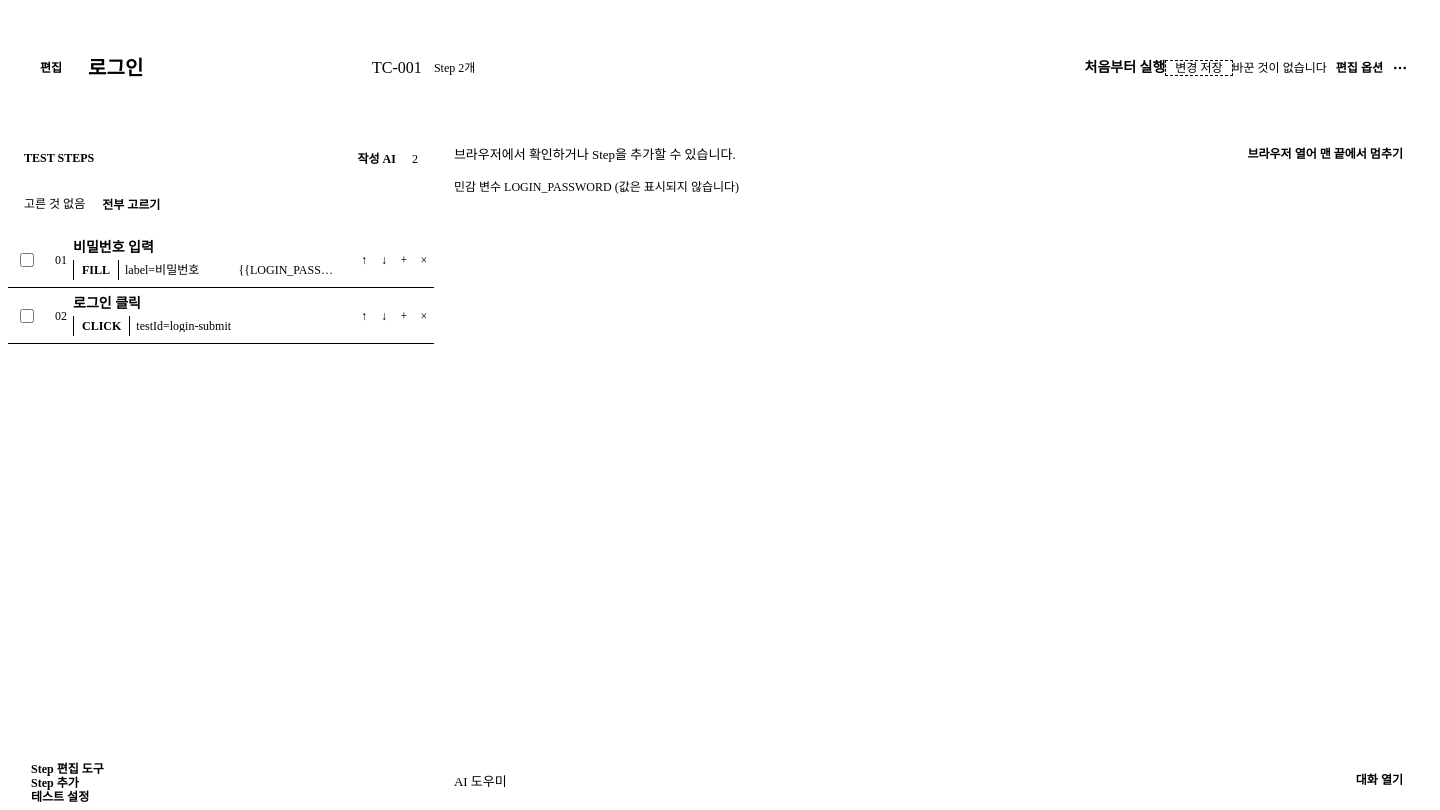
변경 건수와 되돌리기 (FR-188~FR-190) › 변경할 때마다 건수가 늘고, 같은 Step 의 연속 편집은 하나로 센다
Click the button "비밀번호 입력": [113, 248] box x1=73 y1=239 x2=336 y2=257
(page scrolled)
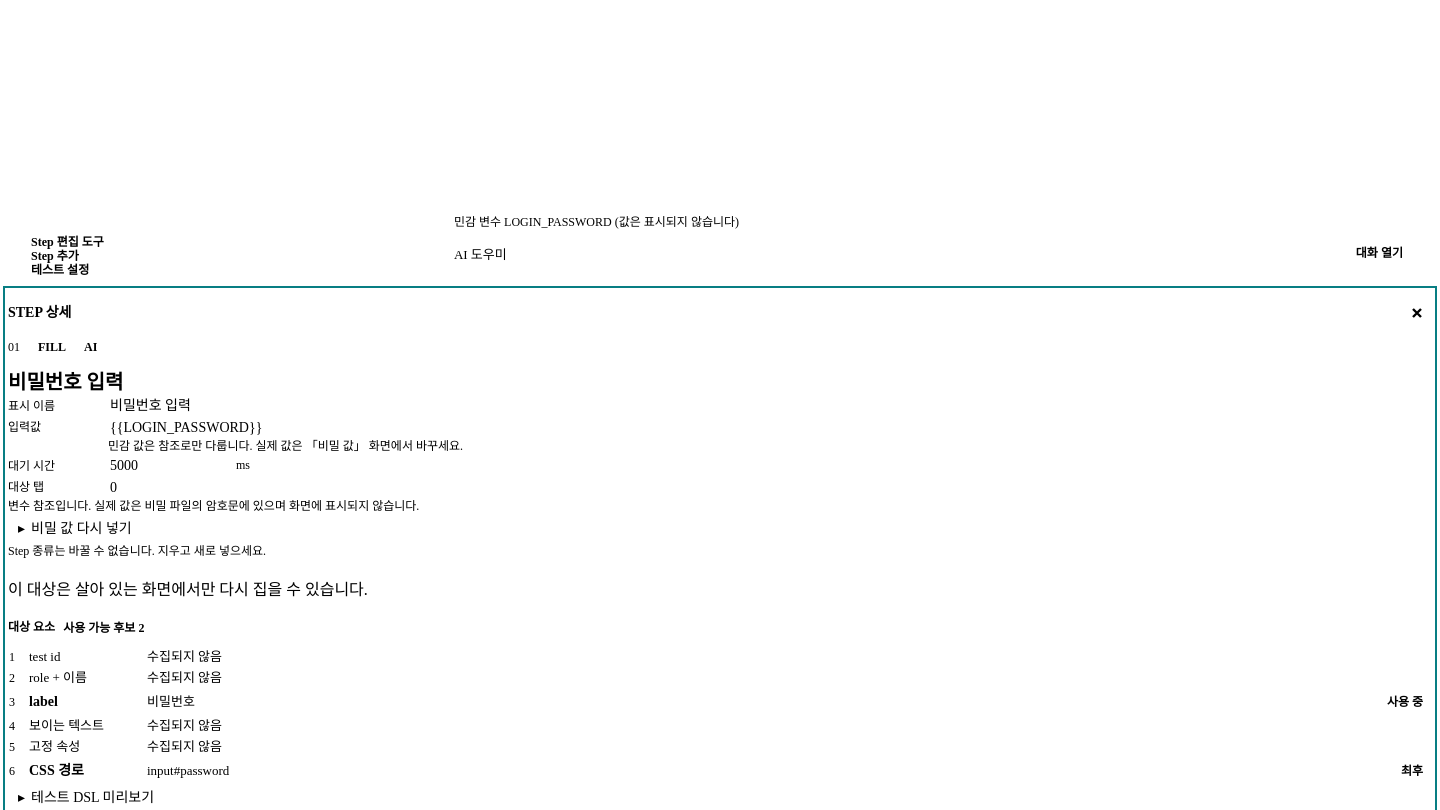
Check: the field named "Step 표시 이름" is shown
Replace the text in the field named "Step 표시 이름" with "비번": [766, 406] box x1=100 y1=395 x2=1432 y2=417
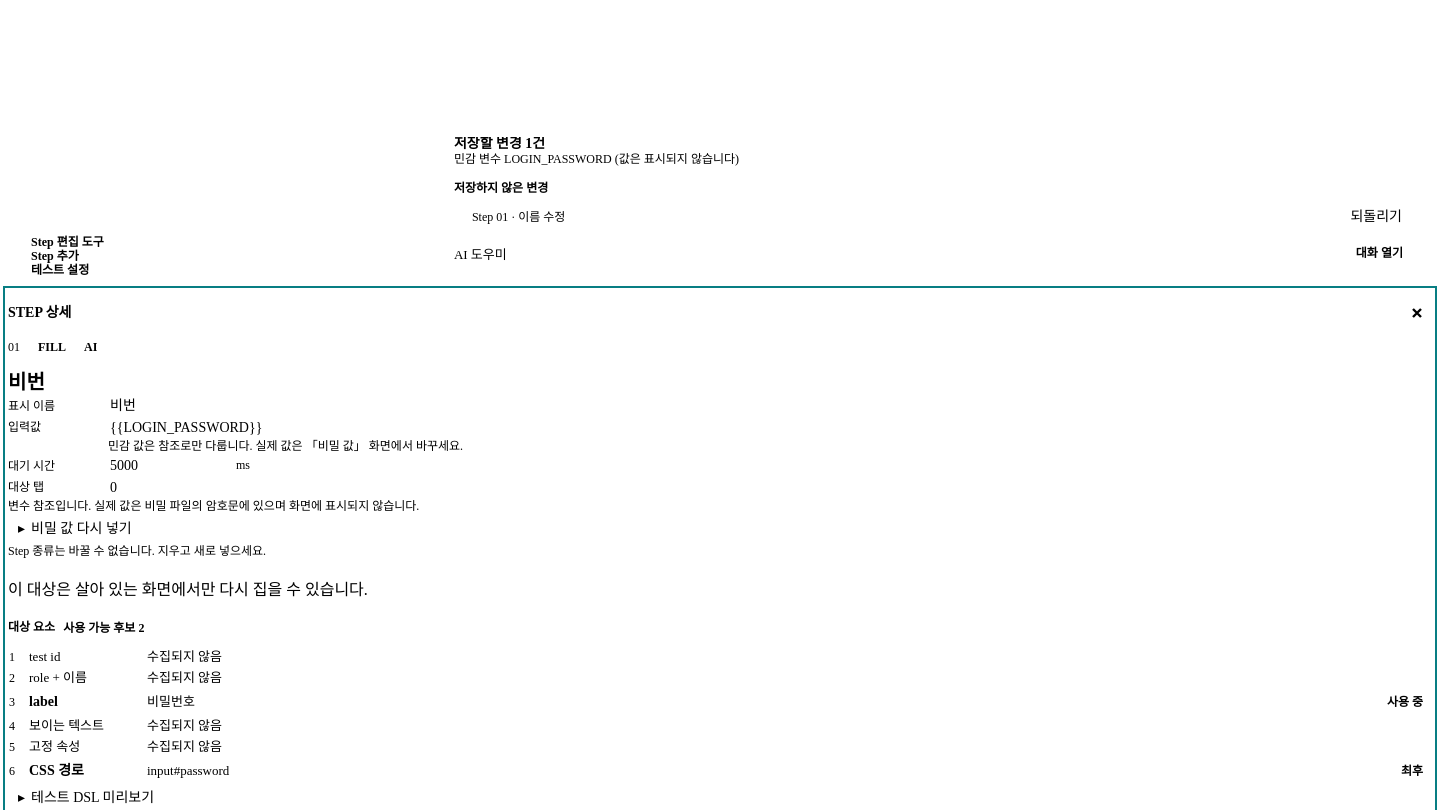
Replace the text in the field named "Step 표시 이름" with "비번 입력": [766, 406] box x1=100 y1=395 x2=1432 y2=417
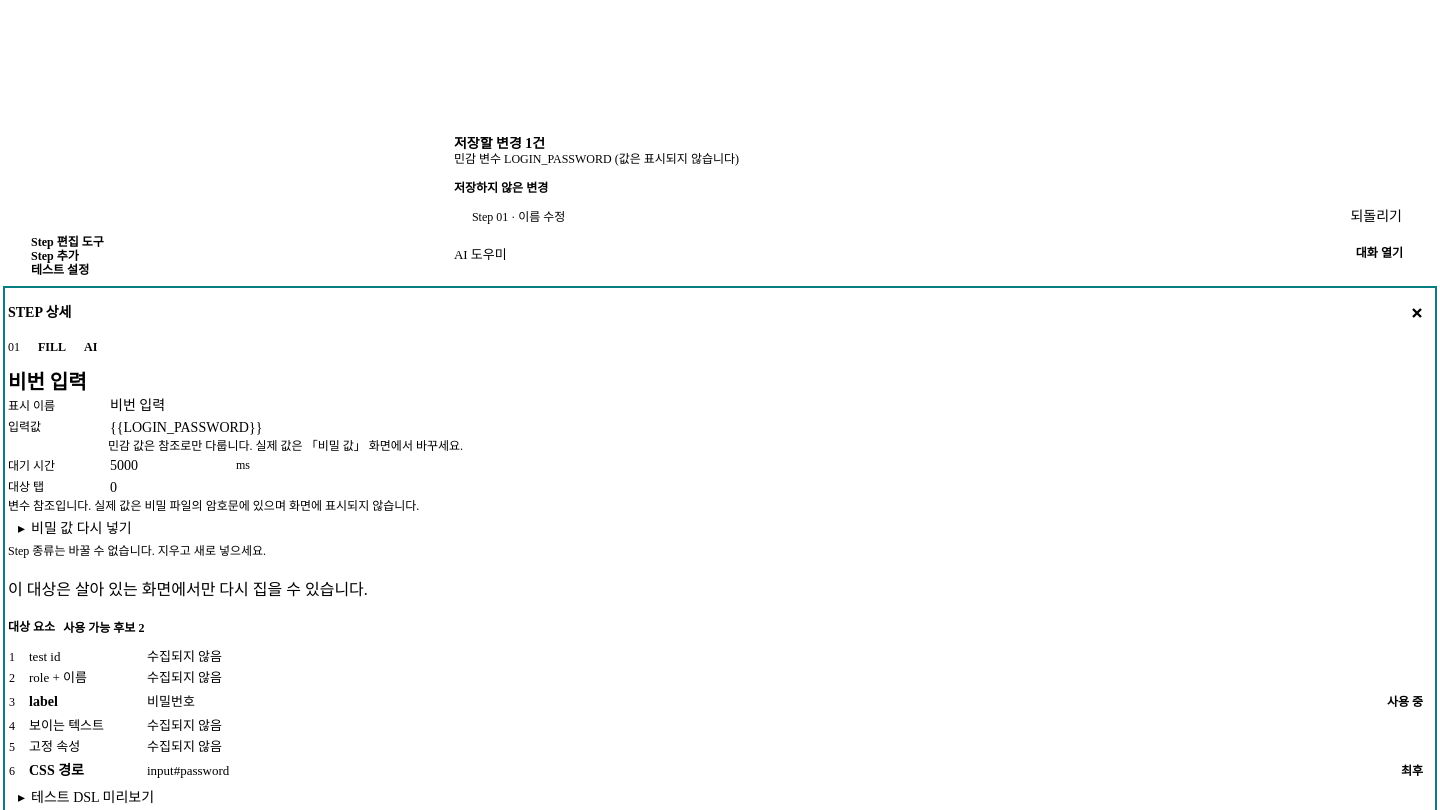
Replace the text in the number field named "Step 대기 시간 (ms)" with "30000": [165, 466] box x1=100 y1=455 x2=230 y2=477
(page scrolled)
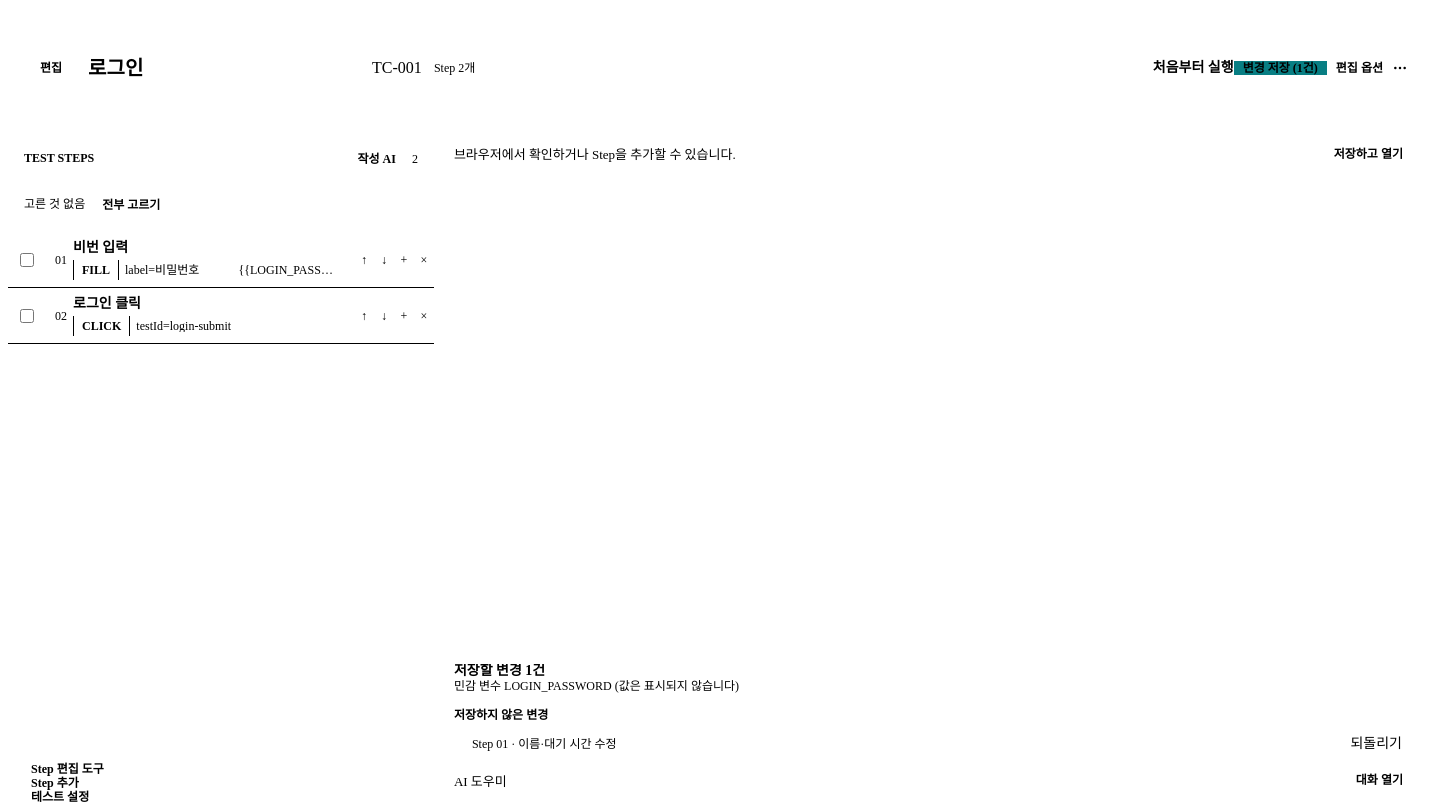
Check: the button "변경 저장 (1건)" is shown, box x1=1234 y1=61 x2=1327 y2=75
Replace the text in the field named "테스트 이름" with "로그인 흐름": [221, 68] box x1=82 y1=53 x2=360 y2=83
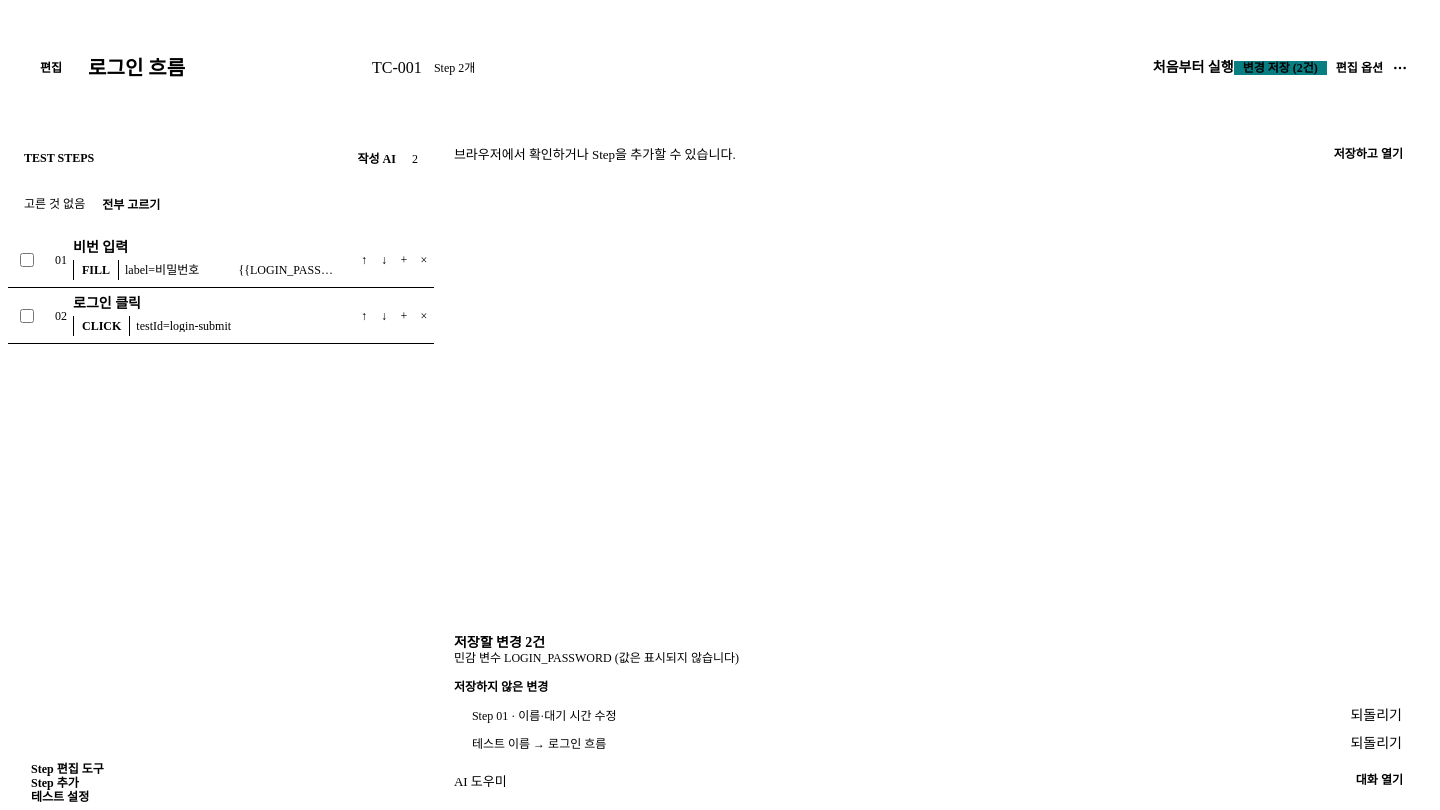
Check: the button "변경 저장 (2건)" is shown, box x1=1234 y1=61 x2=1327 y2=75
